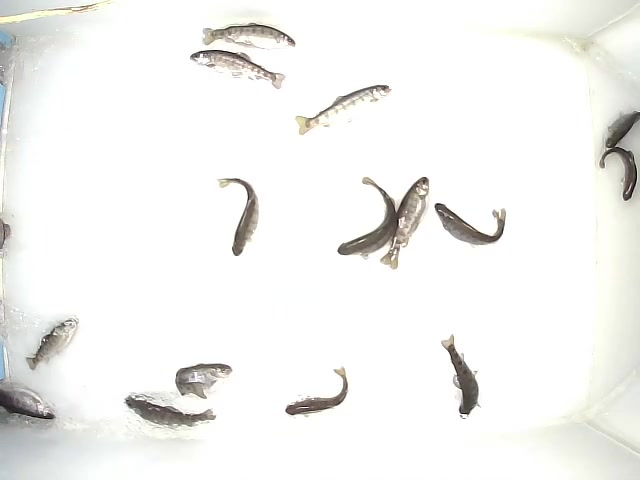fish: (293, 78, 392, 136), (335, 173, 401, 258), (379, 174, 433, 271), (189, 49, 286, 94), (439, 333, 482, 420), (118, 393, 219, 430), (216, 175, 261, 258), (433, 200, 507, 247), (285, 364, 349, 418), (23, 313, 78, 370), (199, 22, 299, 53), (173, 362, 235, 401), (599, 146, 640, 202)
